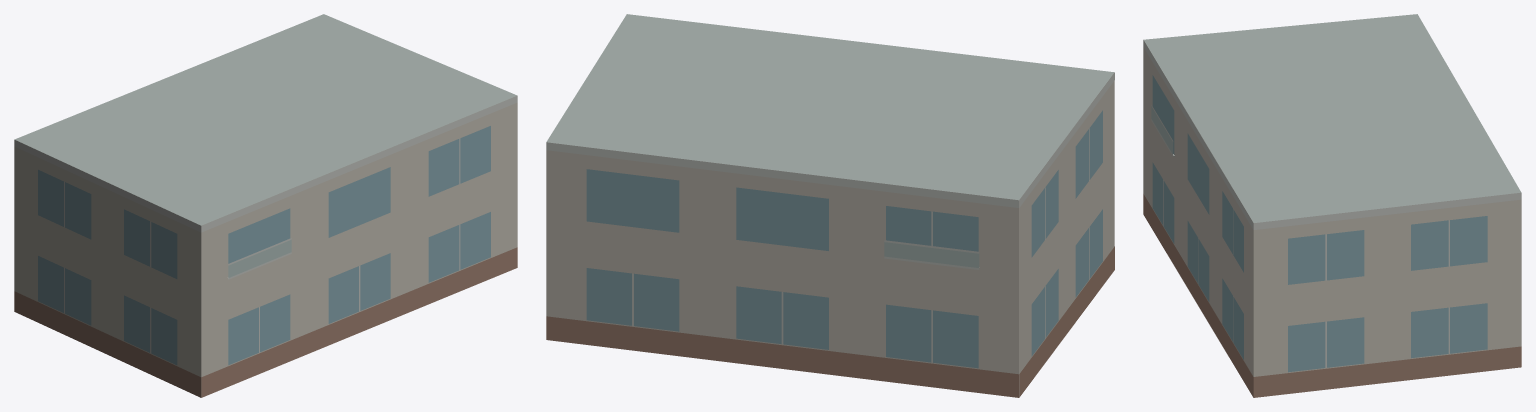
Rendered from survey-upis-32643892.glb.
3 views of the same model, side by side, from view 1: azimuth 30°, elevation 25°; view 2: azimuth 150°, elevation 25°; view 3: azimuth 270°, elevation 25° (orthographic). The views are drawn at different scales.
Parts seen in each view (by area): view 1: survey-upis-32643892.tmp; view 2: survey-upis-32643892.tmp; view 3: survey-upis-32643892.tmp.
Boxes of the visible parts, bbox=[...] form: survey-upis-32643892.tmp: bbox=[14, 14, 517, 397]; survey-upis-32643892.tmp: bbox=[546, 14, 1114, 397]; survey-upis-32643892.tmp: bbox=[1143, 14, 1521, 397].
Bounding box in the file's own units: 15.68 × 6.1 × 11.98.
